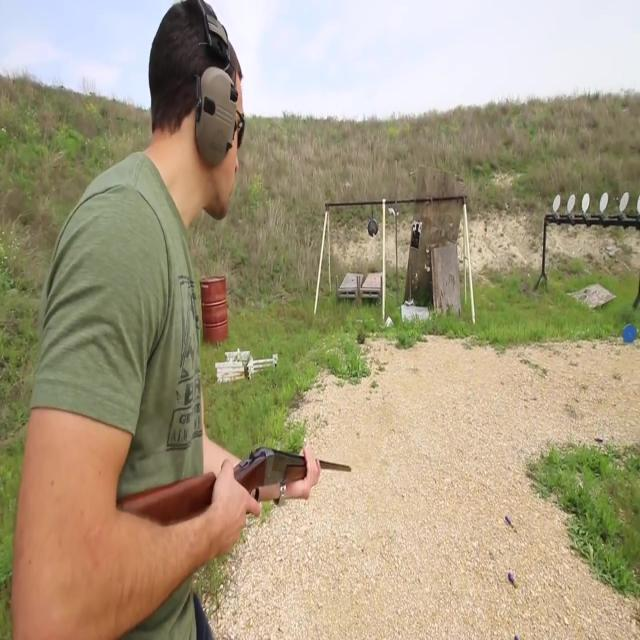Weapon: (84, 431, 389, 587)
